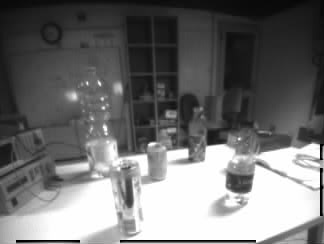Bottle: (77, 67, 114, 174), (226, 120, 255, 206), (187, 106, 206, 161)
Tin can: (109, 160, 145, 234), (146, 141, 167, 180)
